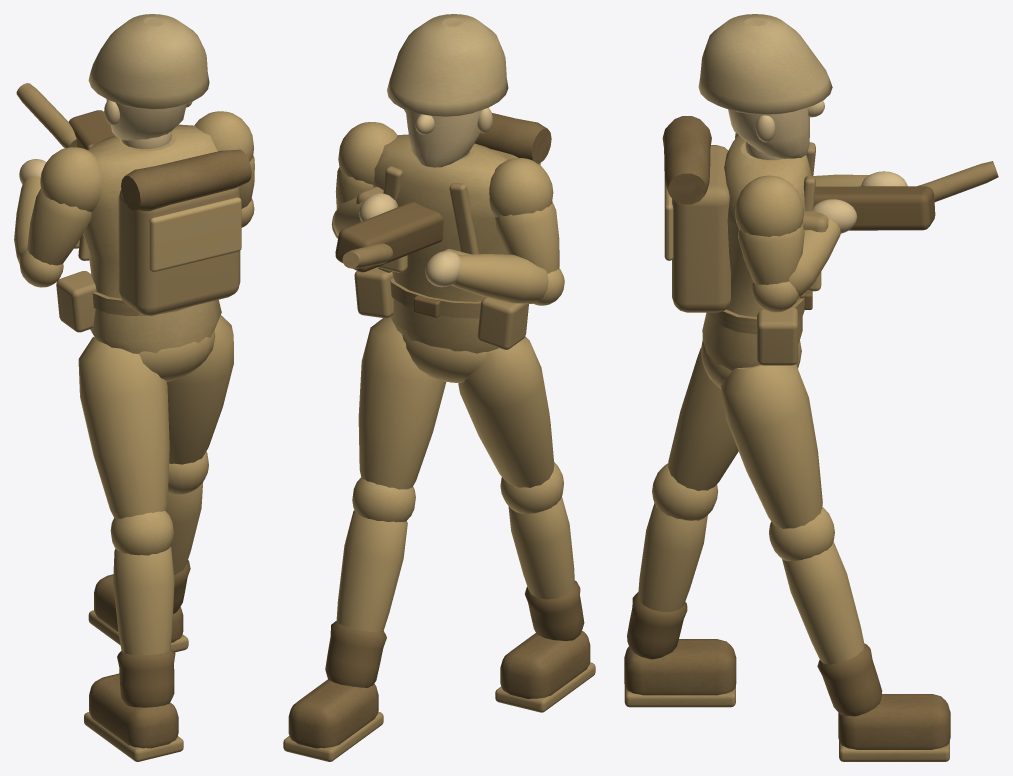
File: pieces_tan.glb
3 renders of one model, left to right at view 1: azimuth 30°, elevation 25°; view 2: azimuth 150°, elevation 25°; view 3: azimuth 270°, elevation 25°, orthographic. The views are drawn at different scales.
Parts seen in each view (by area): view 1: Torso and gear, Left leg, Helmet and head, Right leg, Left arm, Right arm; view 2: Torso and gear, Right leg, Left leg, Helmet and head, Left arm, Right arm; view 3: Right leg, Torso and gear, Left leg, Helmet and head, Right arm, Left arm.
Part boxes in pixels (left/top/right/bottom): Torso and gear: left=16, top=83, right=251, bottom=381; Left leg: left=78, top=336, right=183, bottom=761; Helmet and head: left=88, top=14, right=209, bottom=148; Right leg: left=88, top=315, right=233, bottom=652; Left arm: left=14, top=147, right=102, bottom=287; Right arm: left=194, top=111, right=254, bottom=227; Torso and gear: left=335, top=113, right=551, bottom=383; Right leg: left=283, top=317, right=446, bottom=761; Left leg: left=458, top=336, right=595, bottom=712; Helmet and head: left=387, top=14, right=508, bottom=167; Left arm: left=425, top=158, right=564, bottom=305; Right arm: left=331, top=122, right=397, bottom=238; Right leg: left=721, top=364, right=950, bottom=761; Torso and gear: left=662, top=116, right=998, bottom=389; Left leg: left=624, top=348, right=738, bottom=707; Helmet and head: left=698, top=14, right=832, bottom=160; Right arm: left=735, top=175, right=857, bottom=312; Left arm: left=735, top=133, right=907, bottom=186.
Bounding box in the file's own units: 0.629 × 1.79 × 0.8653.
5 materials, 5 textured.
